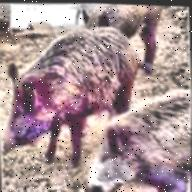boar: (0, 16, 139, 169), (87, 88, 191, 192)
